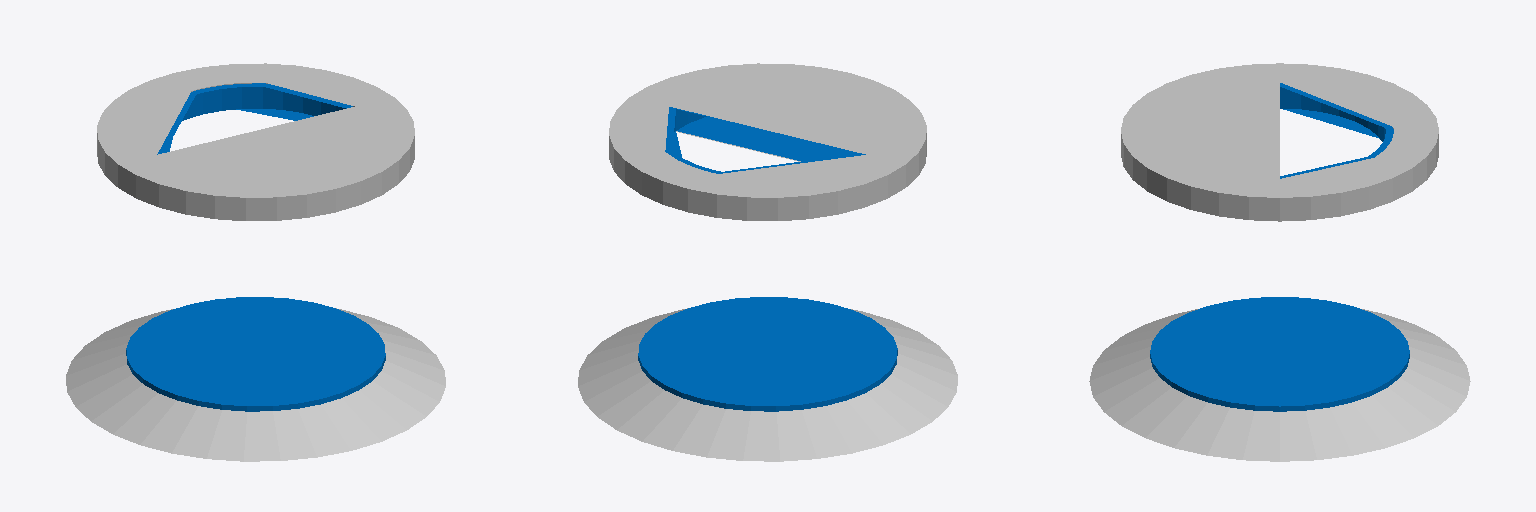
Rendered from teleporter.obj.
The picture shows the model from 3 angles: view 1: azimuth 30°, elevation 25°; view 2: azimuth 150°, elevation 25°; view 3: azimuth 270°, elevation 25°; orthographic projection.
Parts seen in each view (by area): view 1: Top_Cylinder.002, Bottom_Cylinder, Cylinder.001, Cylinder.003_Cylinder.004; view 2: Top_Cylinder.002, Bottom_Cylinder, Cylinder.001, Cylinder.003_Cylinder.004; view 3: Top_Cylinder.002, Bottom_Cylinder, Cylinder.001, Cylinder.003_Cylinder.004.
Part boxes in pixels (x1,y1,x2,y2): Top_Cylinder.002: (97,63,414,220); Bottom_Cylinder: (66,308,445,461); Cylinder.001: (126,297,385,411); Cylinder.003_Cylinder.004: (157,83,352,154); Top_Cylinder.002: (609,63,926,220); Bottom_Cylinder: (578,308,957,461); Cylinder.001: (638,297,897,411); Cylinder.003_Cylinder.004: (665,107,865,173); Top_Cylinder.002: (1121,63,1438,221); Bottom_Cylinder: (1089,309,1470,461); Cylinder.001: (1150,297,1409,411); Cylinder.003_Cylinder.004: (1280,83,1393,178).
Bounding box in the file's own units: 5.82 × 4.22 × 5.82.